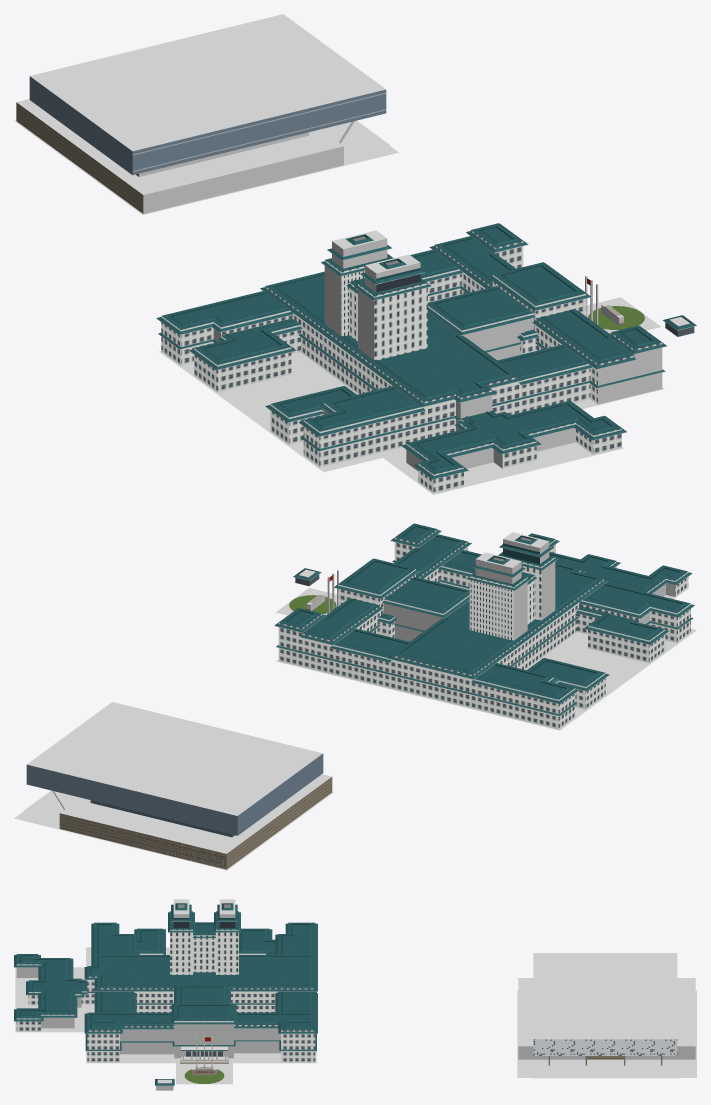
Rendered from nationallibrary.glb.
The picture shows the model from 3 angles, top to bottom: view 1: azimuth 30°, elevation 25°; view 2: azimuth 150°, elevation 25°; view 3: azimuth 270°, elevation 25°; orthographic projection. The views are drawn at different scales.
Visible parts, largest first — view 1: Massing, Library, COL_box, COL_podS, FOOTPRINT_south, FOOTPRINT_halls, FOOTPRINT_north, COL_s25, COL_s4, COL_top0, COL_s9, COL_s10 (+4 smaller); view 2: Massing, Library, COL_box, COL_podN, FOOTPRINT_south, COL_s25, COL_top0, FOOTPRINT_north, CLEAR_cantilever, COL_s21, COL_s30, COL_top1; view 3: Massing, Library, COL_box, FOOTPRINT_north, COL_podN, FOOTPRINT_south, COL_podS, COL_s24, COL_s16, COL_s33, FOOTPRINT_halls, CLEAR_forecourt (+1 smaller).
Boxes of the visible parts, <box> form: Massing: <box>16,76,662,475</box>; Library: <box>132,93,696,493</box>; COL_box: <box>30,14,385,151</box>; COL_podS: <box>94,129,343,213</box>; FOOTPRINT_south: <box>159,351,664,471</box>; FOOTPRINT_halls: <box>378,442,623,494</box>; FOOTPRINT_north: <box>14,120,398,214</box>; COL_s25: <box>463,318,533,360</box>; COL_s4: <box>406,428,575,470</box>; COL_top0: <box>332,230,387,268</box>; COL_s9: <box>598,360,634,404</box>; COL_s10: <box>634,348,662,395</box>; Massing: <box>26,523,690,869</box>; Library: <box>54,524,694,868</box>; COL_box: <box>27,702,322,815</box>; COL_podN: <box>60,798,268,868</box>; FOOTPRINT_south: <box>276,629,696,730</box>; COL_s25: <box>383,603,442,641</box>; COL_top0: <box>475,552,521,584</box>; FOOTPRINT_north: <box>14,792,333,870</box>; CLEAR_cantilever: <box>23,790,80,819</box>; COL_s21: <box>541,562,555,619</box>; COL_s30: <box>514,582,527,640</box>; COL_top1: <box>503,532,549,563</box>; Massing: <box>16,911,677,1062</box>; Library: <box>14,903,677,1085</box>; COL_box: <box>533,953,677,1039</box>; FOOTPRINT_north: <box>517,990,696,1077</box>; COL_podN: <box>625,978,695,1059</box>; FOOTPRINT_south: <box>86,947,316,1063</box>; COL_podS: <box>518,978,585,1059</box>; COL_s24: <box>174,1024,233,1058</box>; COL_s16: <box>120,1029,174,1054</box>; COL_s33: <box>234,1028,280,1053</box>; FOOTPRINT_halls: <box>15,967,85,1032</box>; CLEAR_forecourt: <box>176,1063,232,1084</box>.
Bounding box in the file's own units: 222 × 63.8 × 444.
Materials: 18 (5 with a texture image).
